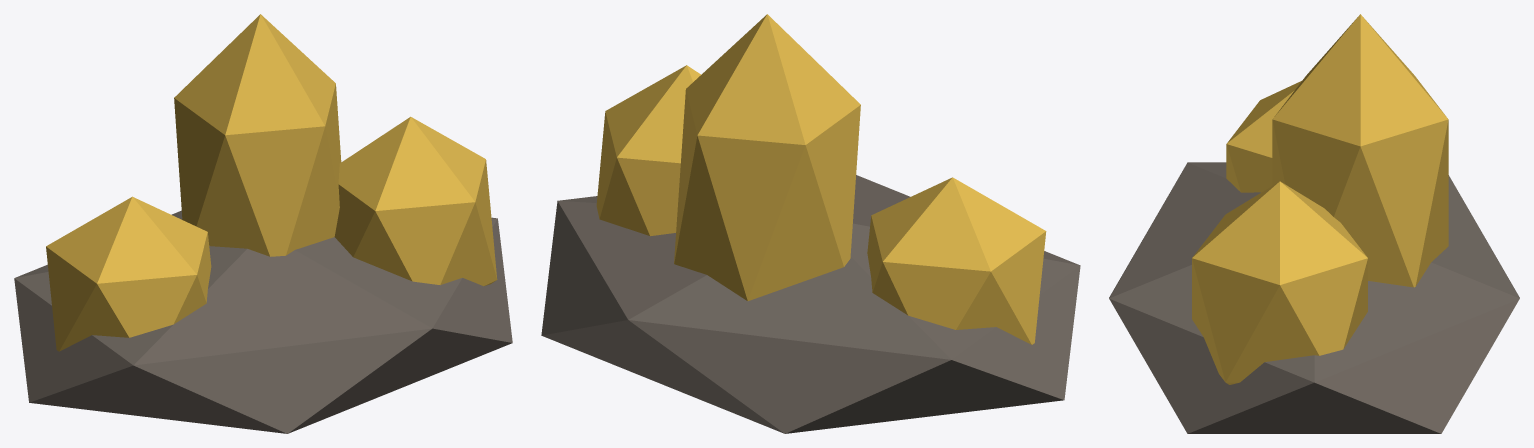
The model's file is res_gold.glb.
The picture shows the model from 3 angles, left to right: view 1: azimuth 30°, elevation 25°; view 2: azimuth 150°, elevation 25°; view 3: azimuth 270°, elevation 25°; orthographic projection. The views are drawn at different scales.
Visible parts, largest first — view 1: res_gold; view 2: res_gold; view 3: res_gold.
Boxes of the visible parts, x1,y1,x2,y2 form: res_gold: [14, 14, 512, 433]; res_gold: [541, 14, 1080, 433]; res_gold: [1109, 14, 1519, 433].
Bounding box in the file's own units: 0.2504 × 0.171 × 0.1786.
